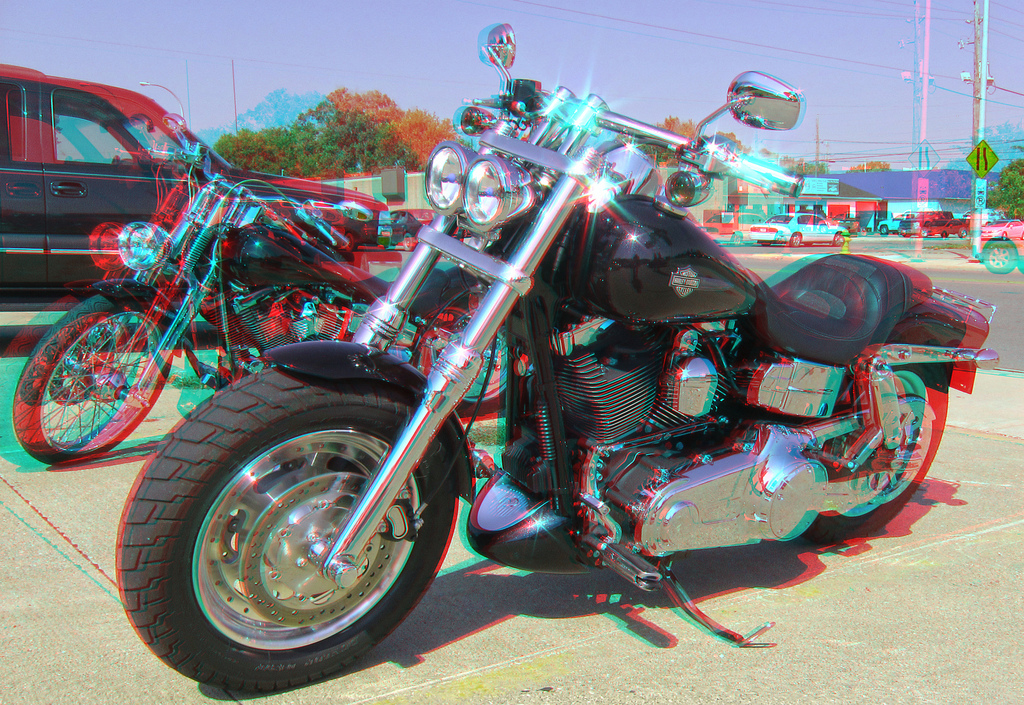Motorcycle: (114, 21, 999, 690), (12, 115, 513, 466)
